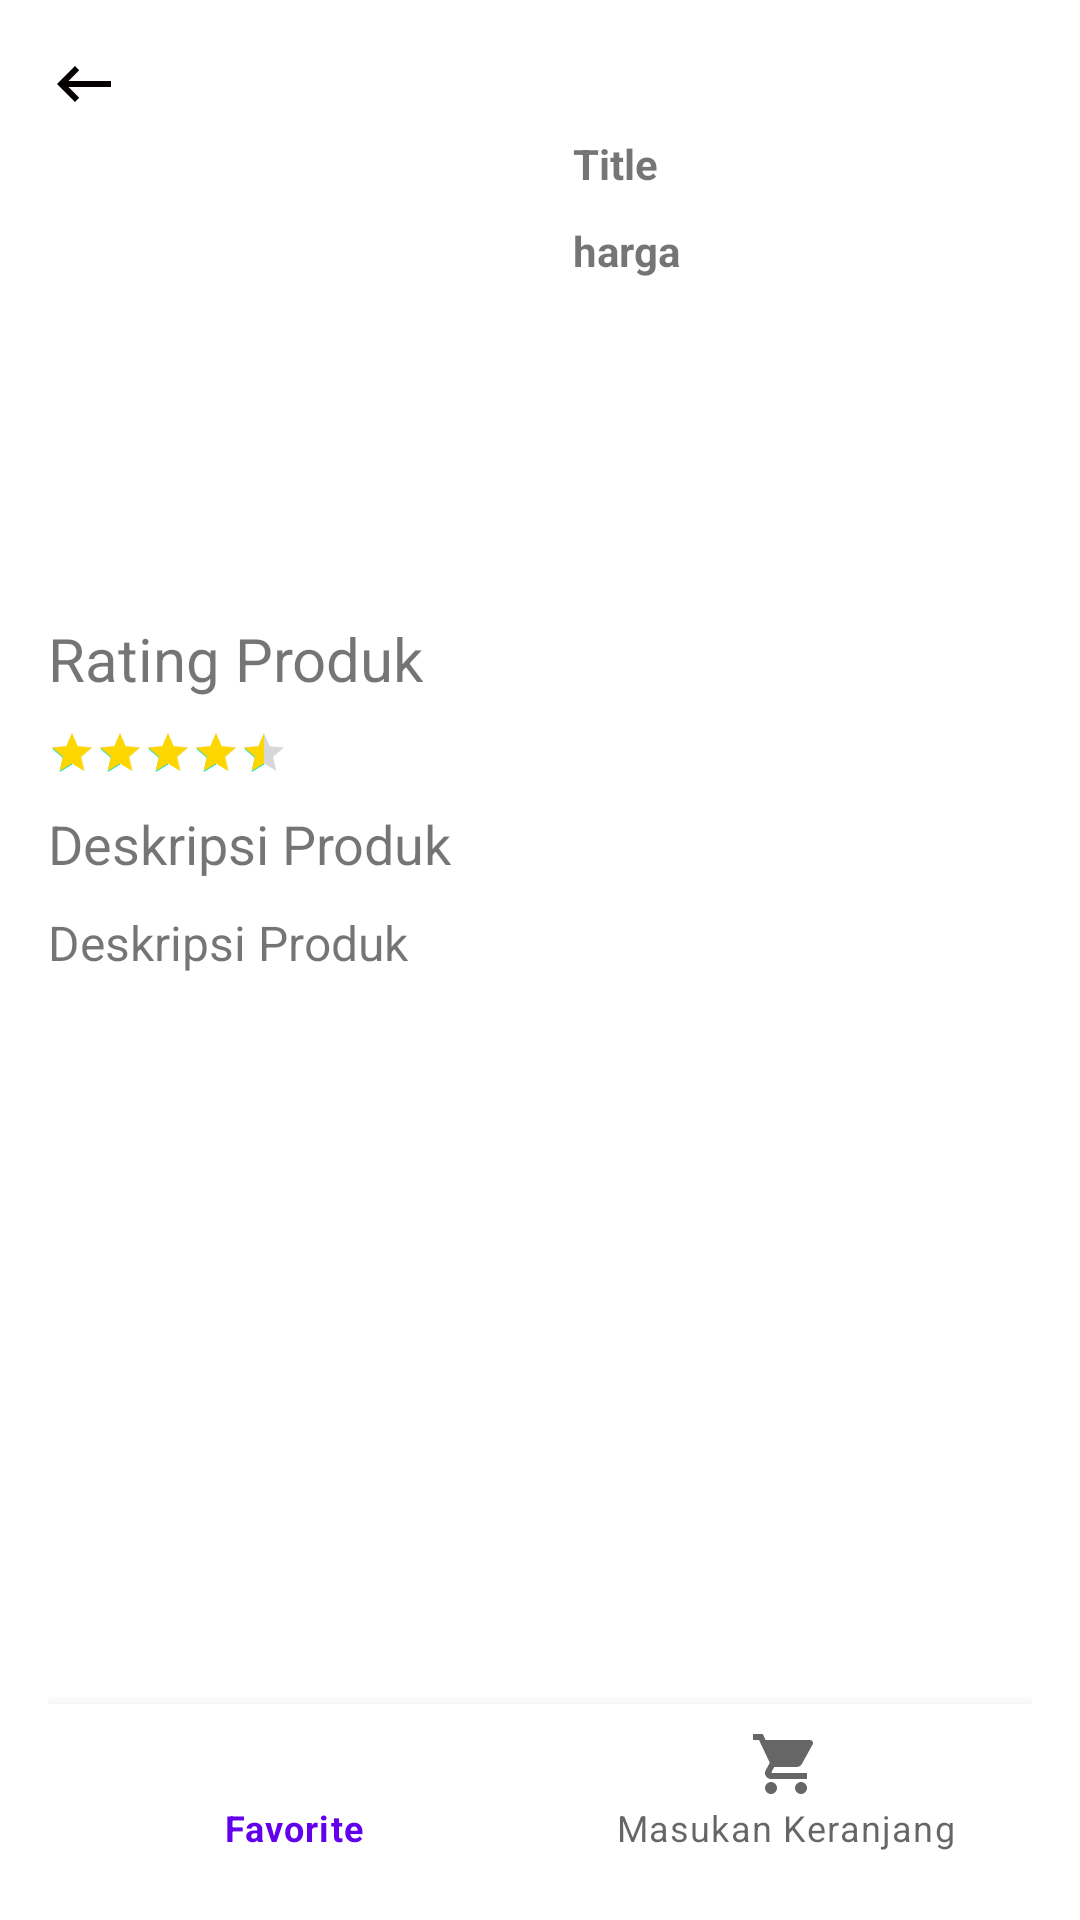

Screen size 1080×1920. Icon name, then its center in pixels as point (x, y):
keyboard backspace: point (84, 84)
